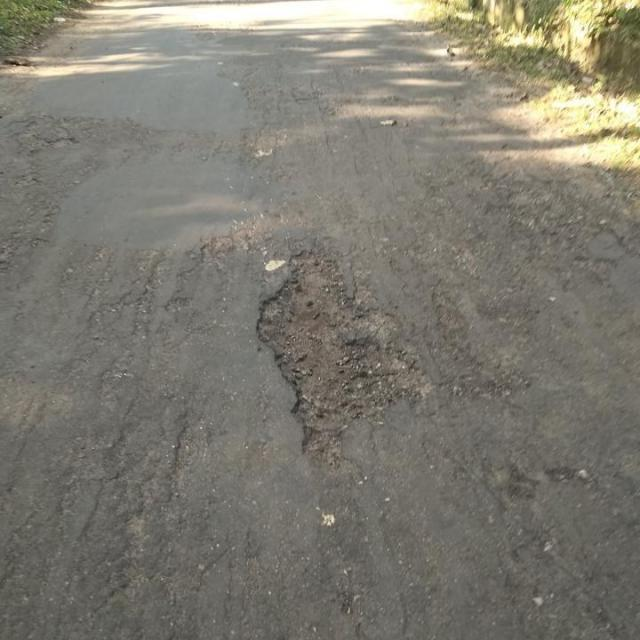pothole: (223, 218, 445, 477), (250, 235, 432, 471)
